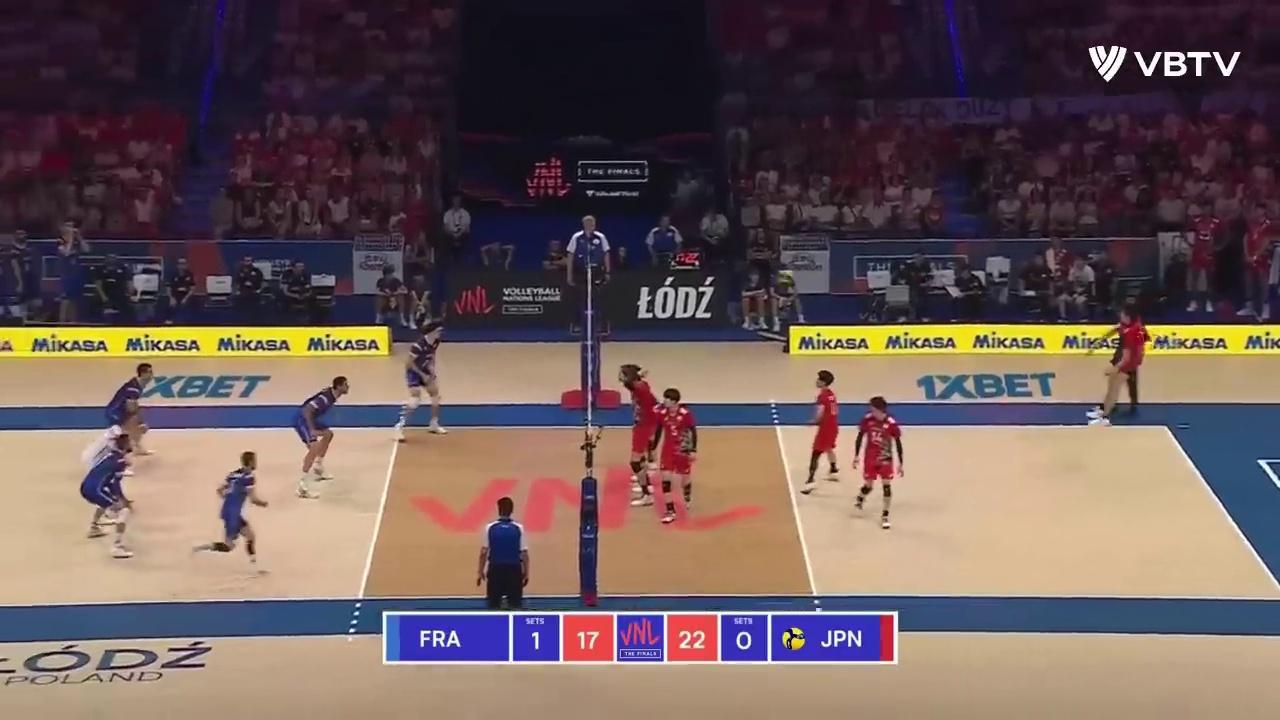ball: (773, 270, 793, 283)
